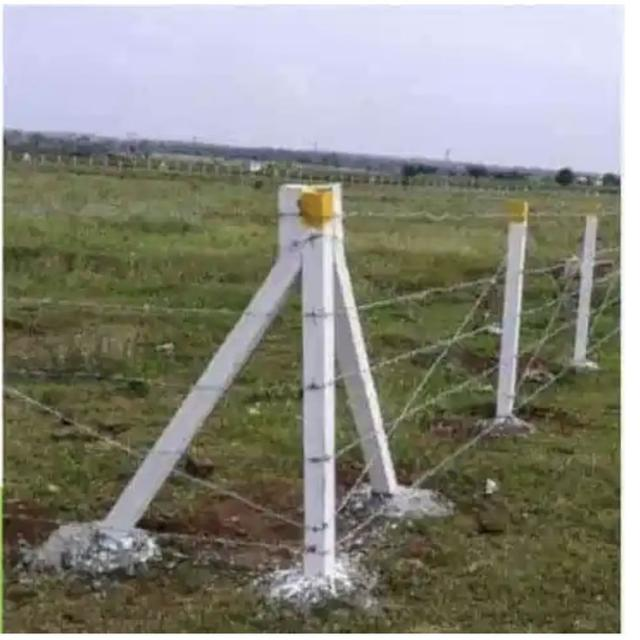fence: (0, 195, 320, 561), (317, 209, 622, 566)
